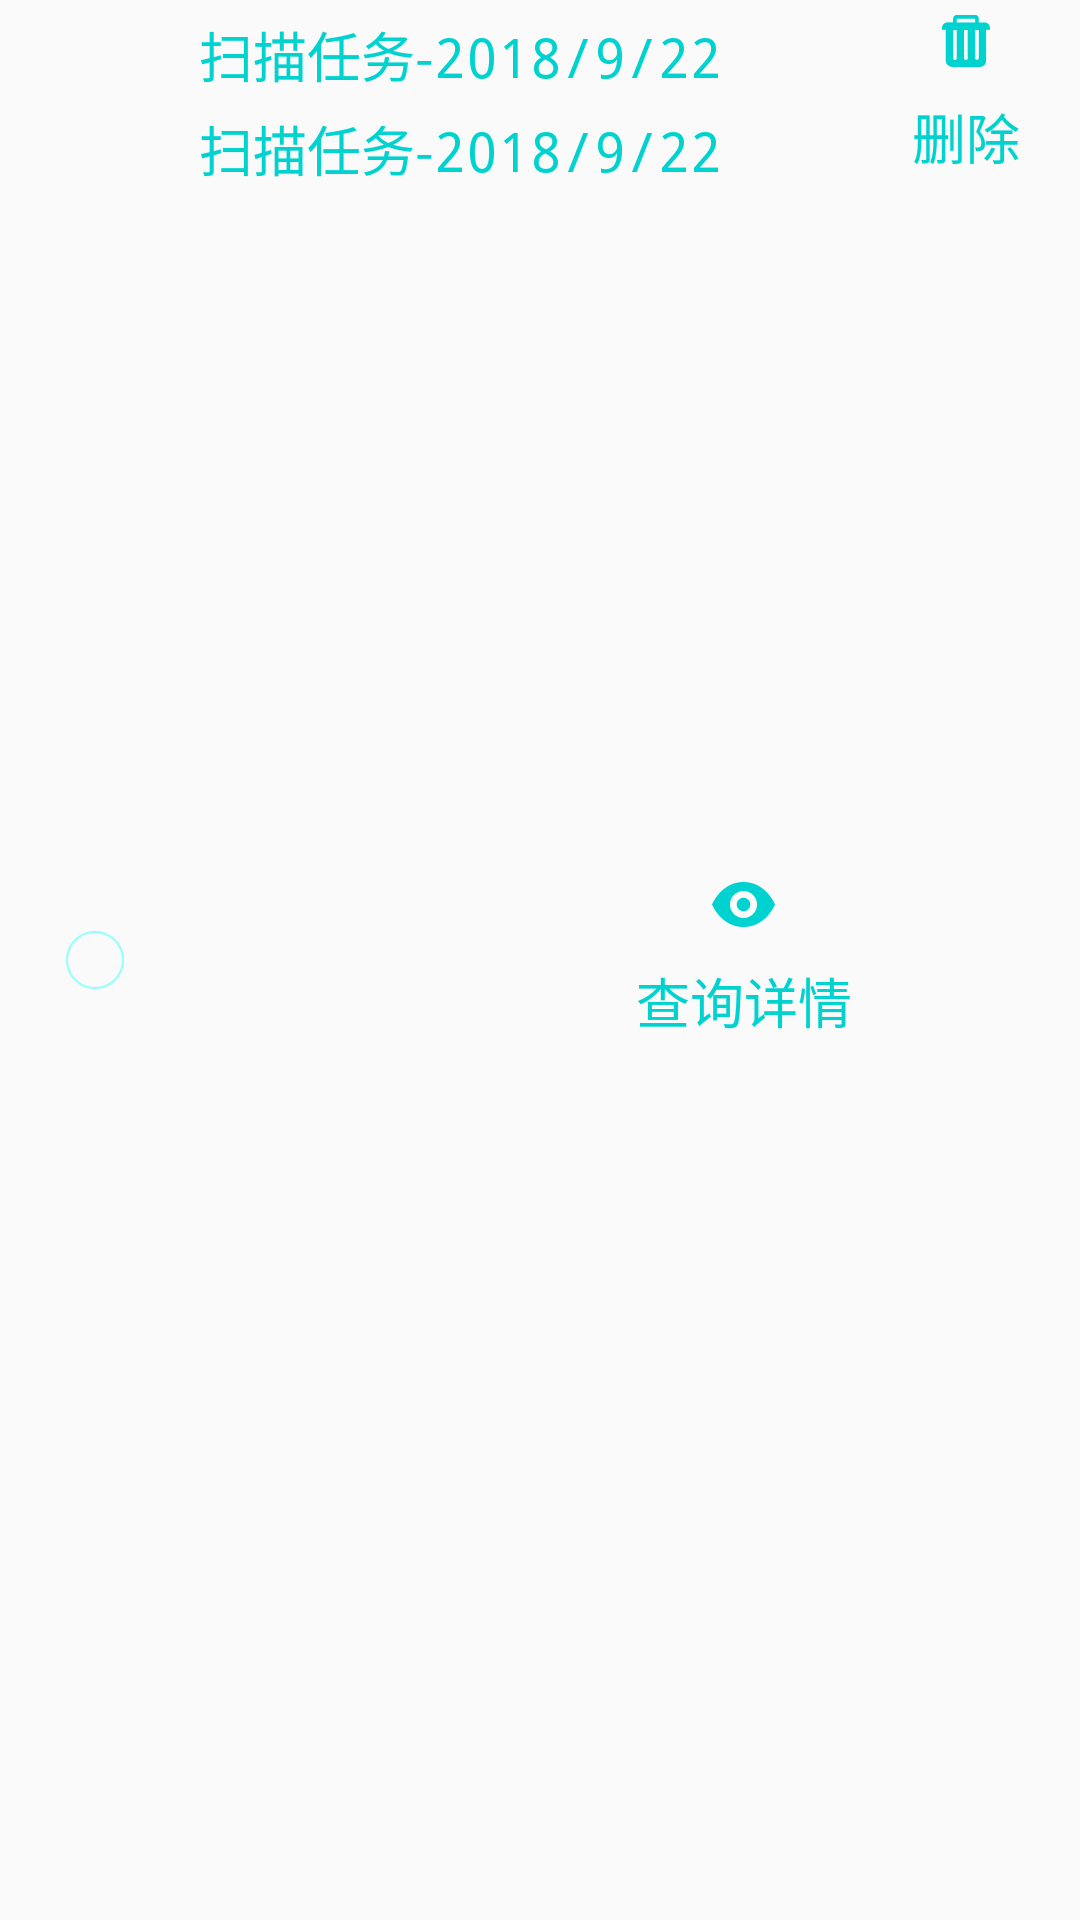

Icon bounding boxes for this 1080px x 1920px phone screenshot, format detection(x1, y1, x2, y2):
delete: detection(942, 15, 990, 67)
